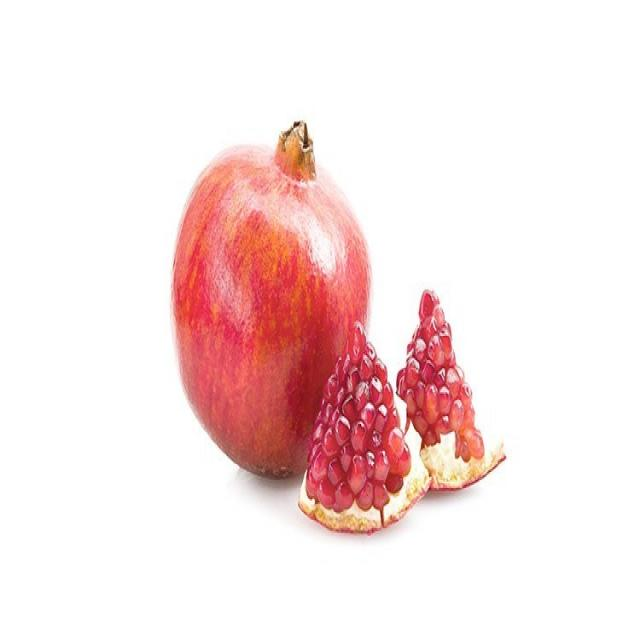pomegranate: (170, 119, 372, 482)
